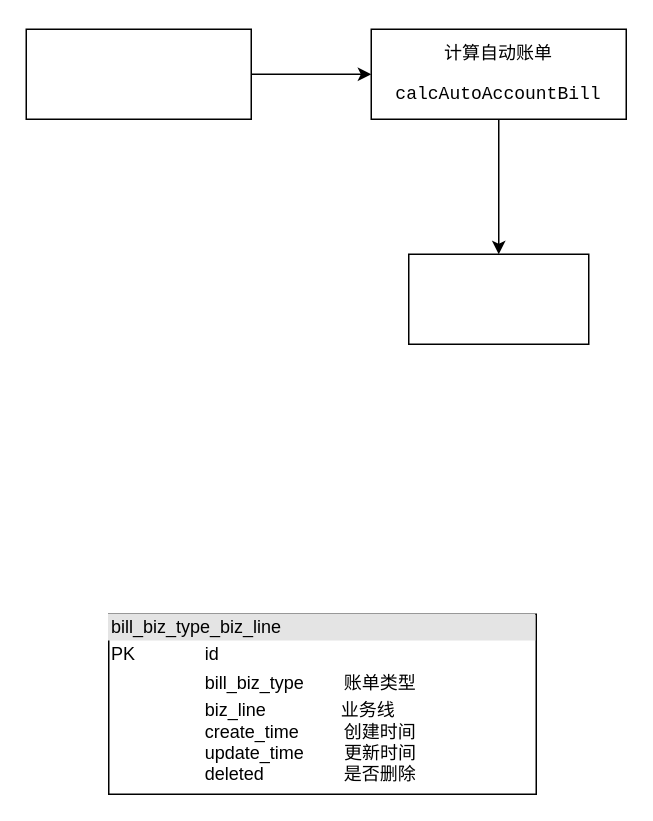
Image size: 653x821. Some labels were removed from this diagram. The shapes that lost their labels are listed below. From the top down, each one's centre as x and y in pixels, then its label:
At point 138,73: "账单任务创建 addAccountBillTask".
At point 498,298: "结算自动账单 settleAutoBill".
